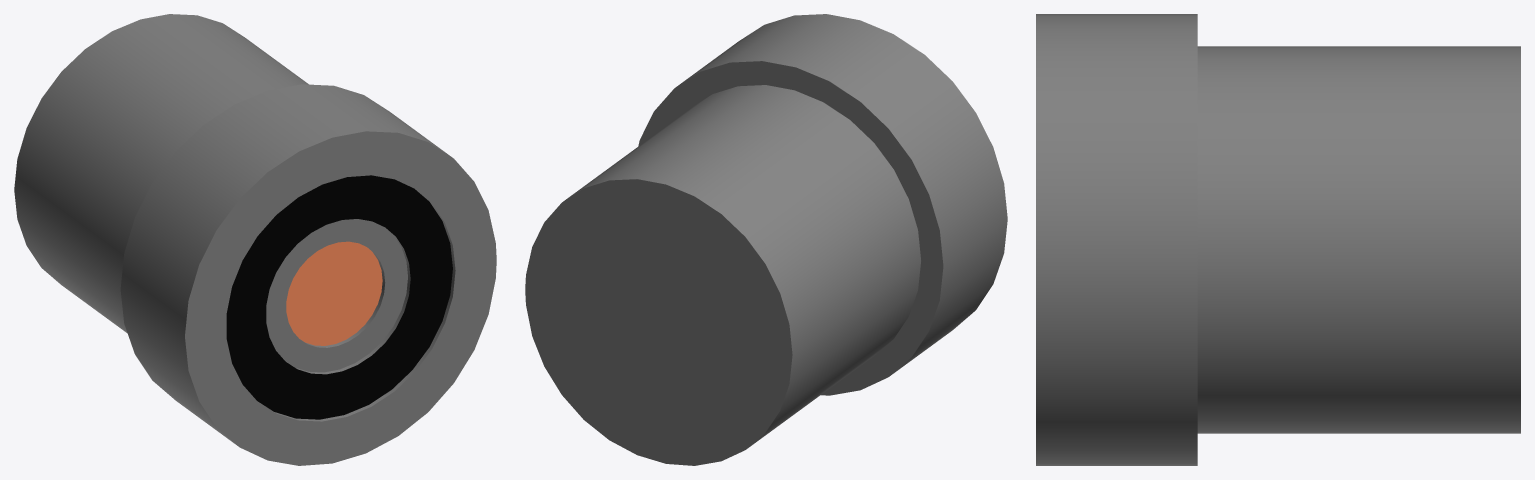
The picture shows the model from 3 angles, left to right: view 1: azimuth 30°, elevation 25°; view 2: azimuth 150°, elevation 25°; view 3: azimuth 270°, elevation 25°; orthographic projection. The views are drawn at different scales.
Parts seen in each view (by area): view 1: mesh33889, mesh33886, mesh33887, mesh33884, mesh33882, mesh33880, mesh33885, mesh33883; view 2: mesh33890, mesh33889, mesh33887, mesh33888; view 3: mesh33889, mesh33887.
Part boxes in pixels (x1,y1,x2,y2): mesh33889: (14,14,308,333); mesh33886: (185,131,496,465); mesh33887: (120,84,451,446); mesh33884: (226,175,452,419); mesh33882: (266,219,407,372); mesh33880: (286,241,382,345); mesh33885: (259,189,455,421); mesh33883: (287,227,410,374); mesh33890: (525,179,792,465); mesh33889: (564,85,920,448); mesh33887: (677,14,1007,376); mesh33888: (638,61,943,395); mesh33889: (1197,46,1520,433); mesh33887: (1036,14,1197,465).
Size of the model in its own units: 0.014 by 0.014 by 0.015.
